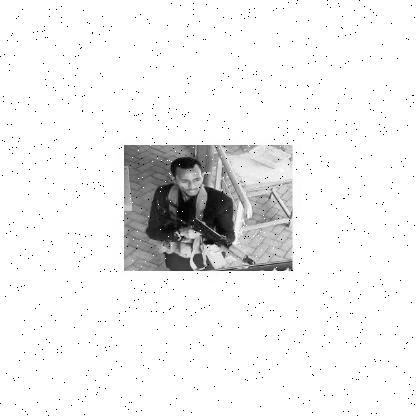gun: (176, 216, 257, 264)
